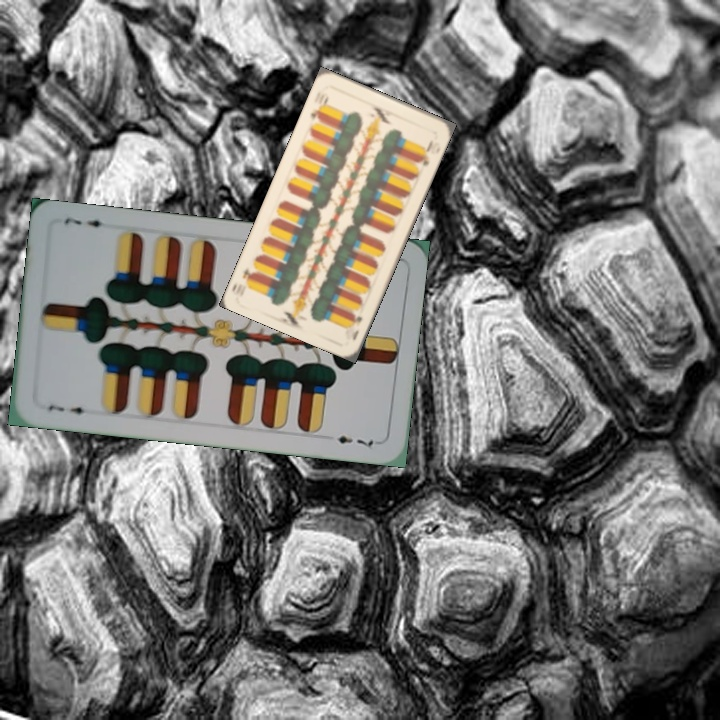E10: (306, 92, 331, 124), (348, 309, 365, 343)
E7: (44, 400, 93, 418)
